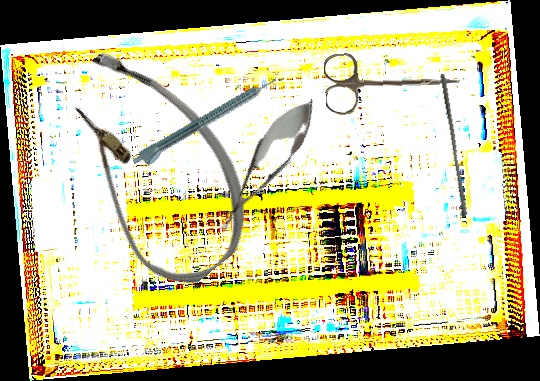Cannula: (21, 29, 281, 304)
Handpiece: (130, 74, 283, 173)
Iris Scissors: (323, 47, 462, 116)
Micro Scissor: (204, 87, 328, 243)
Pusher: (434, 73, 473, 217)
